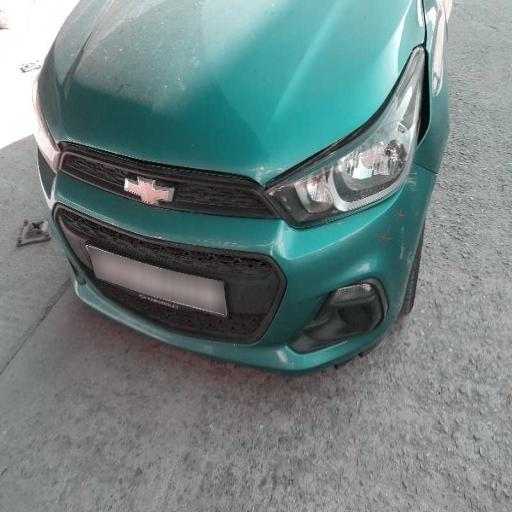scratch: (79, 18, 198, 137), (227, 220, 292, 278), (250, 330, 314, 376)
